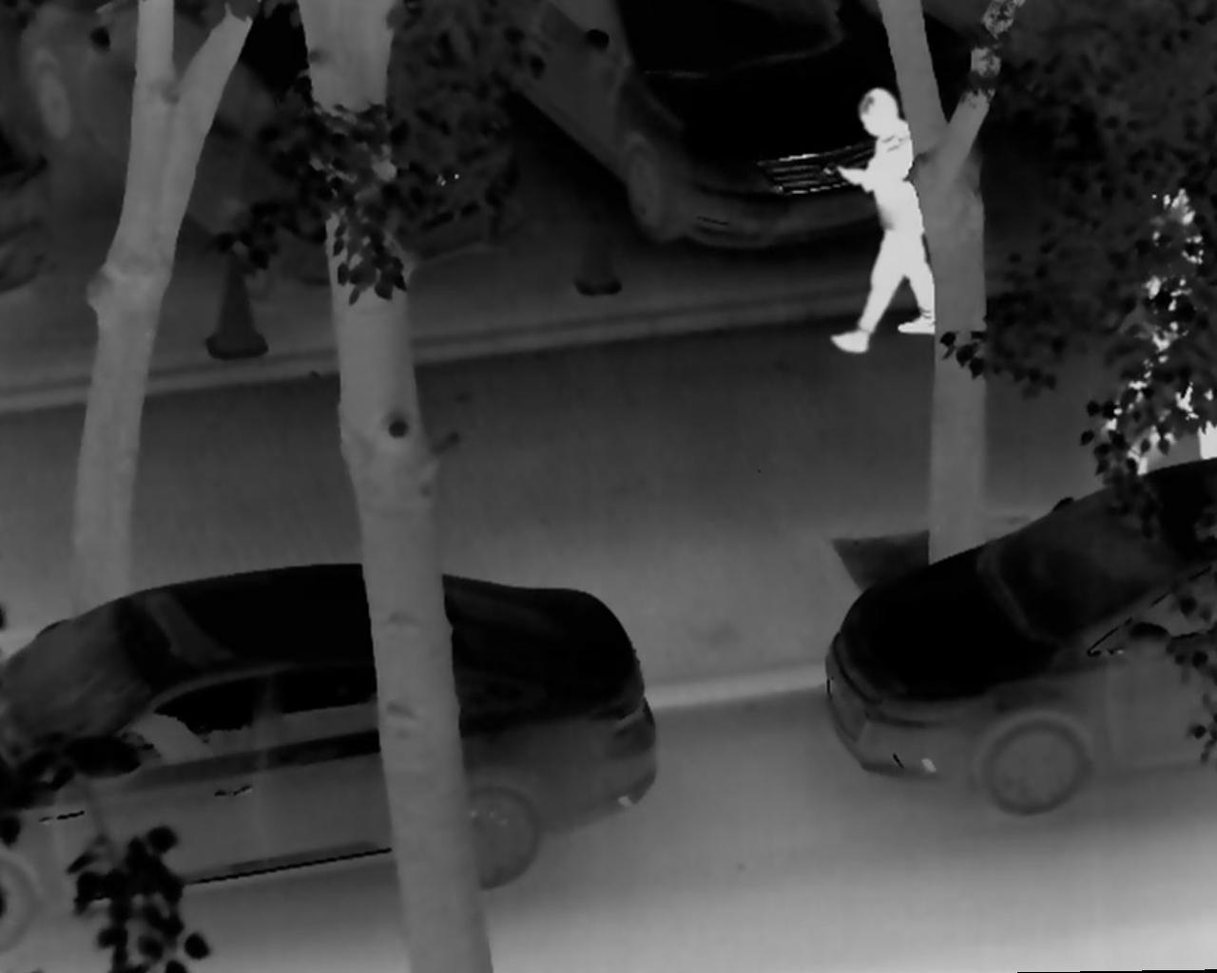person: (828, 91, 954, 357), (1094, 175, 1193, 433), (1121, 235, 1217, 476)
